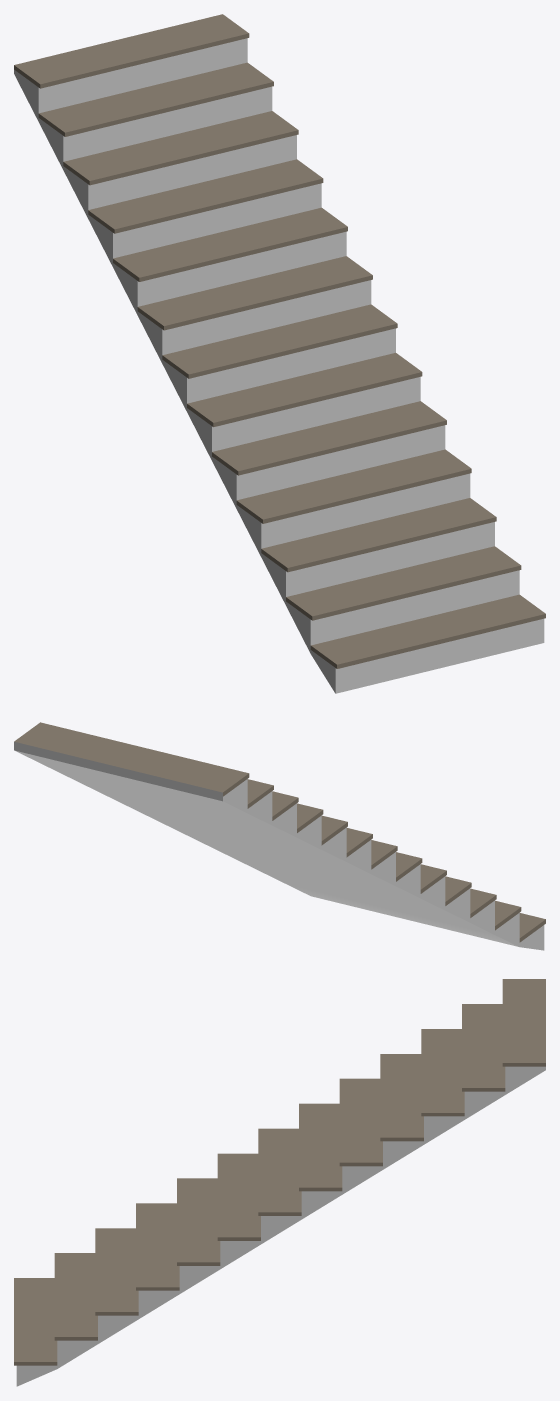
Rendered from straightStairs.fbx.
3 views of the same model, one above another, from view 1: azimuth 30°, elevation 25°; view 2: azimuth 150°, elevation 25°; view 3: azimuth 270°, elevation 25° (orthographic). The views are drawn at different scales.
Parts seen in each view (by area): view 1: Stair; view 2: Stair; view 3: Stair.
Part boxes in pixels (left/top/right/bottom): Stair: left=14, top=14, right=545, bottom=693; Stair: left=14, top=722, right=545, bottom=950; Stair: left=14, top=979, right=545, bottom=1386.
Bounding box in the file's own units: 195 × 351 × 523.
